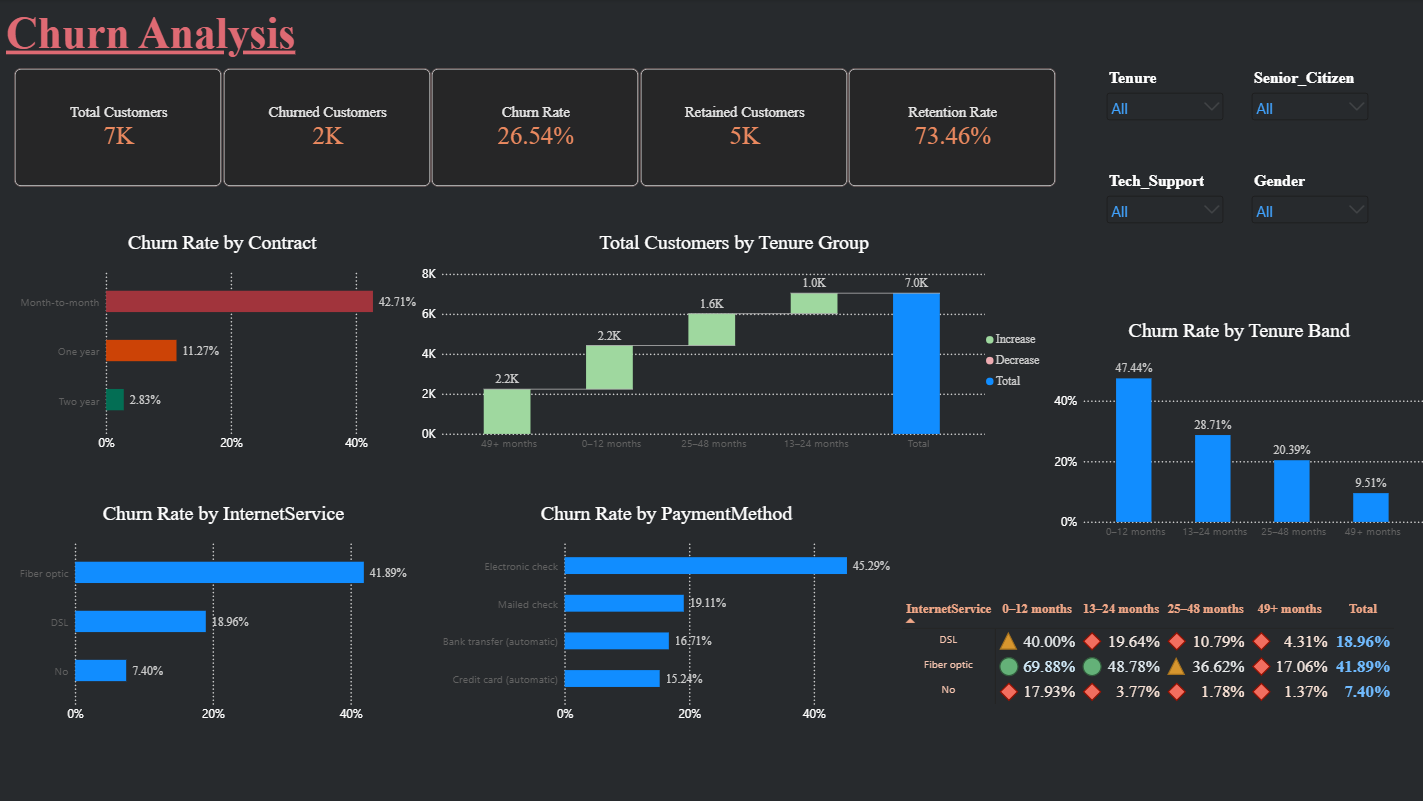

The page's visual inventory and layout, read from the dashboard file:
{"tool":"powerbi","page":{"name":"Customer Churn Analysis","canvas":[1920,1080],"ordinal":1},"visuals":[{"type":"textbox","box":[9.8,13.9,429.1,68.3],"z":0},{"type":"cardVisual","fields":{"Data":["measure.Total Customers"]},"box":[20.2,92.9,280.1,160.2],"z":1000},{"type":"cardVisual","fields":{"Data":["measure.Retained Customers"]},"box":[862.8,93.1,280.1,160.2],"z":2000},{"type":"cardVisual","fields":{"Data":["measure.Churned Customers"]},"box":[301.3,93.1,280.1,160.2],"z":3000},{"type":"cardVisual","fields":{"Data":["measure.Churn Rate"]},"box":[582,93.1,280.1,160.2],"z":4000},{"type":"cardVisual","fields":{"Data":["measure.Retention Rate"]},"box":[1143.5,93.1,280.1,160.2],"z":5000},{"type":"clusteredBarChart","fields":{"Category":["Customer_Risk.Contract"],"Y":["measure.Churn Rate"]},"box":[20.2,312.8,560.7,301.3],"z":6000},{"type":"clusteredBarChart","fields":{"Category":["Customer_Risk.InternetService"],"Y":["measure.Churn Rate"]},"box":[21.6,677.5,561,301],"z":7000},{"type":"clusteredColumnChart","fields":{"Category":["Customer_Risk.Tenure Band"],"Y":["measure.Churn Rate"]},"box":[1421.3,431,498.7,301.3],"z":8000},{"type":"clusteredBarChart","fields":{"Category":["Customer_Risk.PaymentMethod"],"Y":["measure.Churn Rate"]},"box":[582.3,677.5,634,301],"z":9000},{"type":"waterfallChart","fields":{"Category":["Telco_Churn.Tenure Group"],"Y":["measure.Total Customers"]},"box":[569.4,312.8,840.4,301.3],"z":10000},{"type":"pivotTable","fields":{"Columns":["Customer_Risk.Tenure Band"],"Rows":["Customer_Risk.InternetService"],"Values":["measure.Churn Rate"]},"box":[1216.6,808.6,667.4,170.1],"z":11000},{"type":"slicer","fields":{"Values":["Customer_Risk.tenure"]},"box":[1486.1,93.7,167.2,79.3],"z":12000},{"type":"slicer","fields":{"Values":["Telco_Churn.SeniorCitizen"]},"box":[1682.2,93.7,167.2,79.3],"z":13000},{"type":"slicer","fields":{"Values":["Telco_Churn.TechSupport"]},"box":[1486.1,233.5,167.2,79.3],"z":14000},{"type":"slicer","fields":{"Values":["Telco_Churn.gender"]},"box":[1682.2,233.5,167.2,79.3],"z":15000}]}

Visuals, with their boxes in screenshot pixels (x1, y1, x2, y2), scaled from the page's 1920x1080 canvas onto the 1423x801 screenshot:
textbox: Rect(7, 10, 325, 61)
cardVisual - measure.Total Customers: Rect(15, 69, 223, 188)
cardVisual - measure.Retained Customers: Rect(639, 69, 847, 188)
cardVisual - measure.Churned Customers: Rect(223, 69, 431, 188)
cardVisual - measure.Churn Rate: Rect(431, 69, 639, 188)
cardVisual - measure.Retention Rate: Rect(848, 69, 1055, 188)
clusteredBarChart - Customer_Risk.Contract x measure.Churn Rate: Rect(15, 232, 431, 455)
clusteredBarChart - Customer_Risk.InternetService x measure.Churn Rate: Rect(16, 502, 432, 726)
clusteredColumnChart - Customer_Risk.Tenure Band x measure.Churn Rate: Rect(1053, 320, 1422, 543)
clusteredBarChart - Customer_Risk.PaymentMethod x measure.Churn Rate: Rect(432, 502, 901, 726)
waterfallChart - Telco_Churn.Tenure Group x measure.Total Customers: Rect(422, 232, 1045, 455)
pivotTable - Customer_Risk.Tenure Band x Customer_Risk.InternetService: Rect(902, 600, 1396, 726)
slicer - Customer_Risk.tenure: Rect(1101, 69, 1225, 128)
slicer - Telco_Churn.SeniorCitizen: Rect(1247, 69, 1371, 128)
slicer - Telco_Churn.TechSupport: Rect(1101, 173, 1225, 232)
slicer - Telco_Churn.gender: Rect(1247, 173, 1371, 232)
